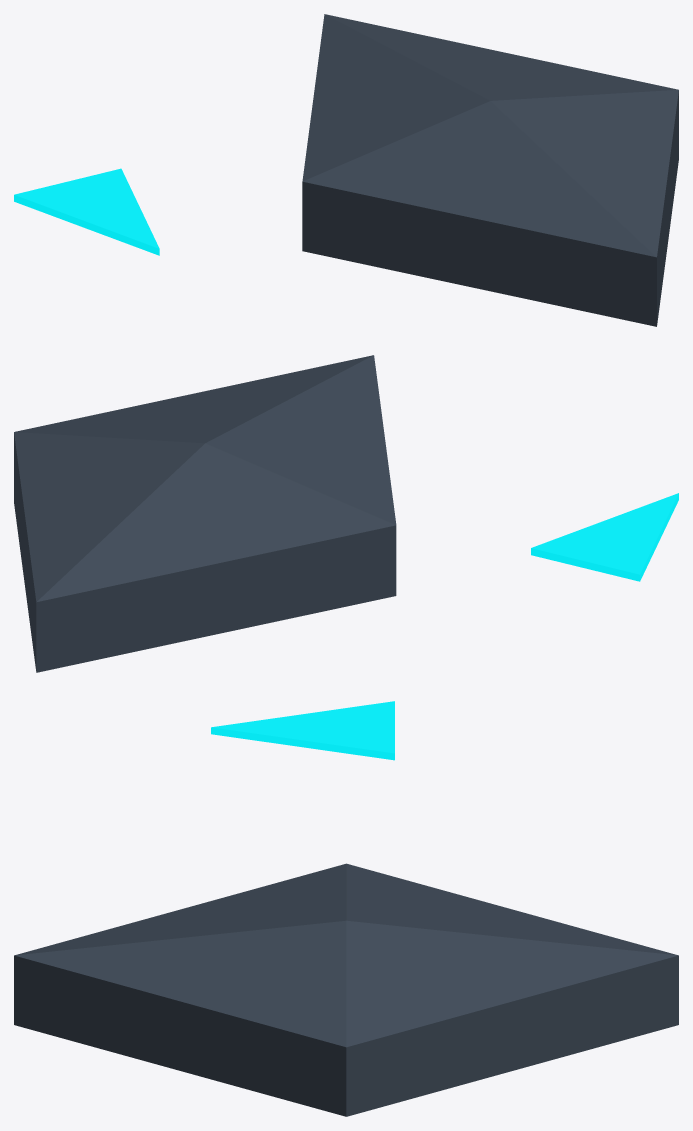
Rendered from SM_Rune_Speed.glb.
The picture shows the model from 3 angles, top to bottom: view 1: azimuth 30°, elevation 25°; view 2: azimuth 150°, elevation 25°; view 3: azimuth 270°, elevation 25°; orthographic projection.
Visible parts, largest first — view 1: SM_Rune_Speed, Glyph_Speed_Upper; view 2: SM_Rune_Speed, Glyph_Speed_Upper; view 3: SM_Rune_Speed, Glyph_Speed_Upper.
Boxes of the visible parts, x1=… form: SM_Rune_Speed: x1=302, y1=14, x2=678, y2=326; Glyph_Speed_Upper: x1=14, y1=168, x2=159, y2=255; SM_Rune_Speed: x1=14, y1=355, x2=396, y2=672; Glyph_Speed_Upper: x1=531, y1=493, x2=678, y2=581; SM_Rune_Speed: x1=14, y1=863, x2=678, y2=1116; Glyph_Speed_Upper: x1=211, y1=701, x2=394, y2=760.
Size of the model in its own units: 2.89 by 0.6 by 2.6.
